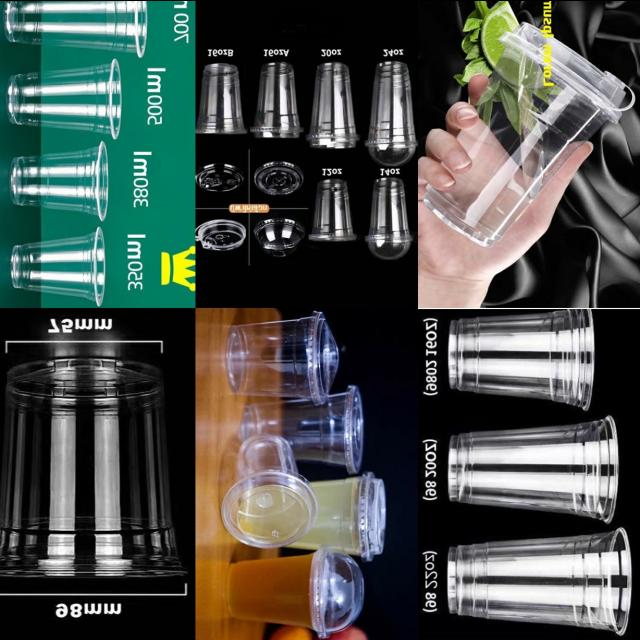plastik: (425, 23, 626, 245), (0, 356, 185, 576), (448, 527, 631, 633), (448, 415, 618, 522), (449, 308, 594, 409), (228, 546, 364, 637), (221, 433, 317, 547), (242, 384, 364, 473), (227, 311, 339, 403), (7, 59, 122, 138), (290, 471, 386, 560), (4, 0, 148, 56), (11, 141, 109, 219), (11, 227, 106, 305), (365, 60, 418, 166), (307, 61, 359, 147), (250, 61, 303, 137), (365, 176, 412, 258), (196, 62, 247, 133), (308, 179, 356, 240), (254, 217, 305, 256), (255, 160, 304, 194), (196, 218, 245, 251), (196, 163, 244, 190)
